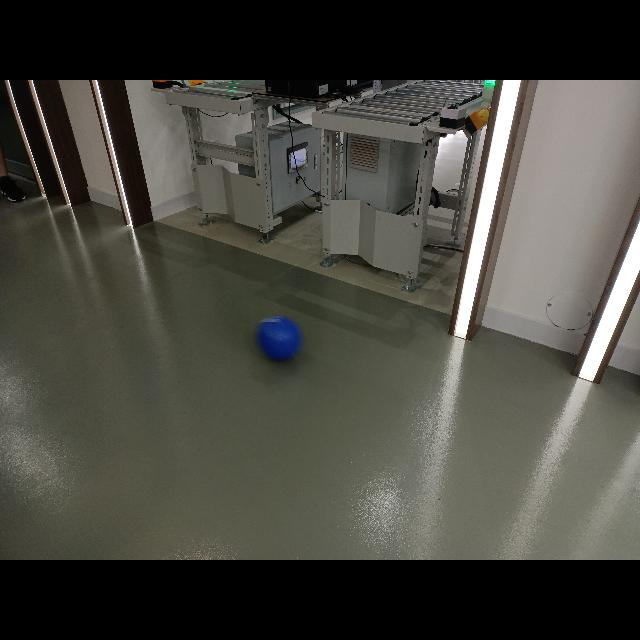B: (250, 312, 310, 363)
